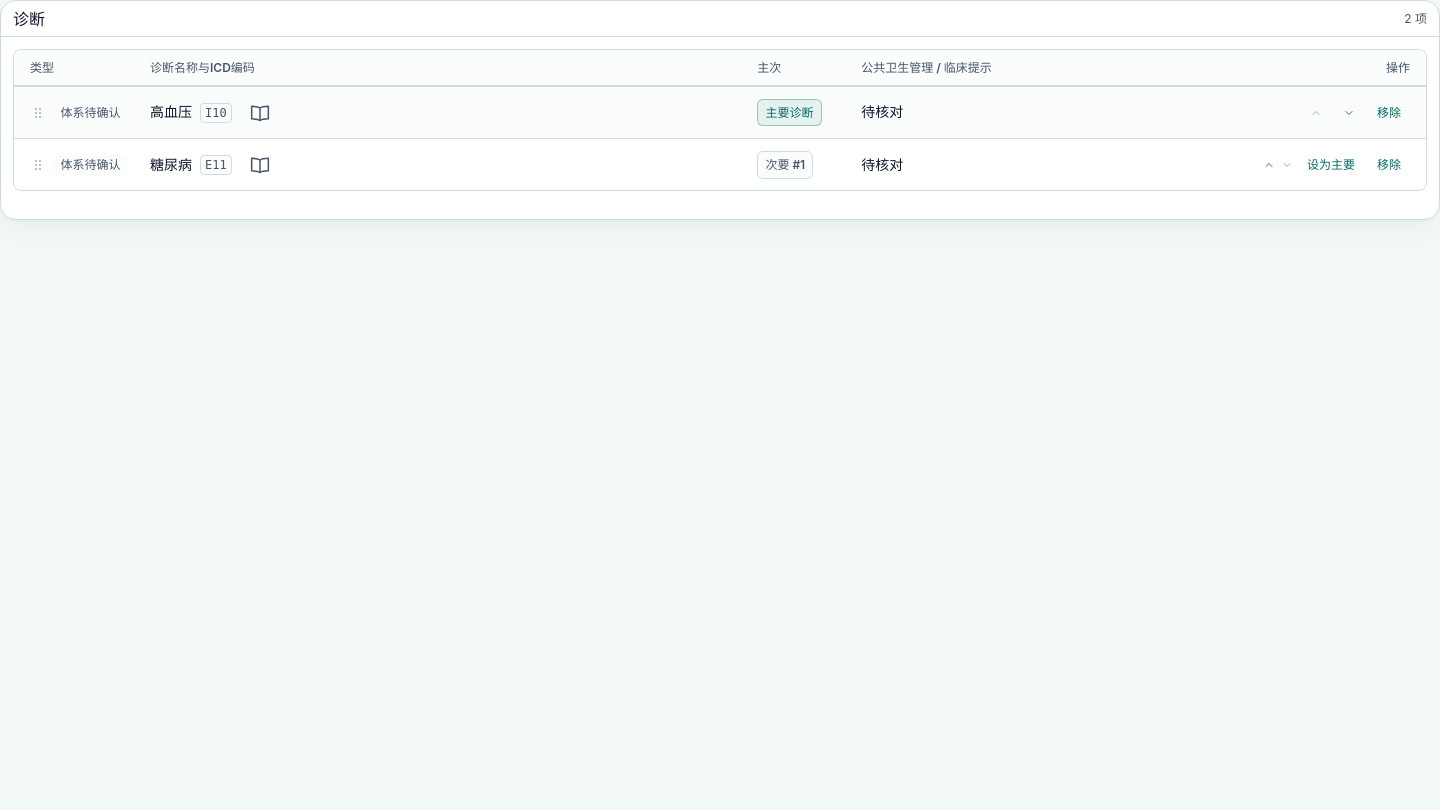
Test: diagnosis panel › promotes, reorders and removes the primary diagnosis while preserving one primary
Click the button "设为主要".
click(1331, 165)  # box [1298,149,1364,181]
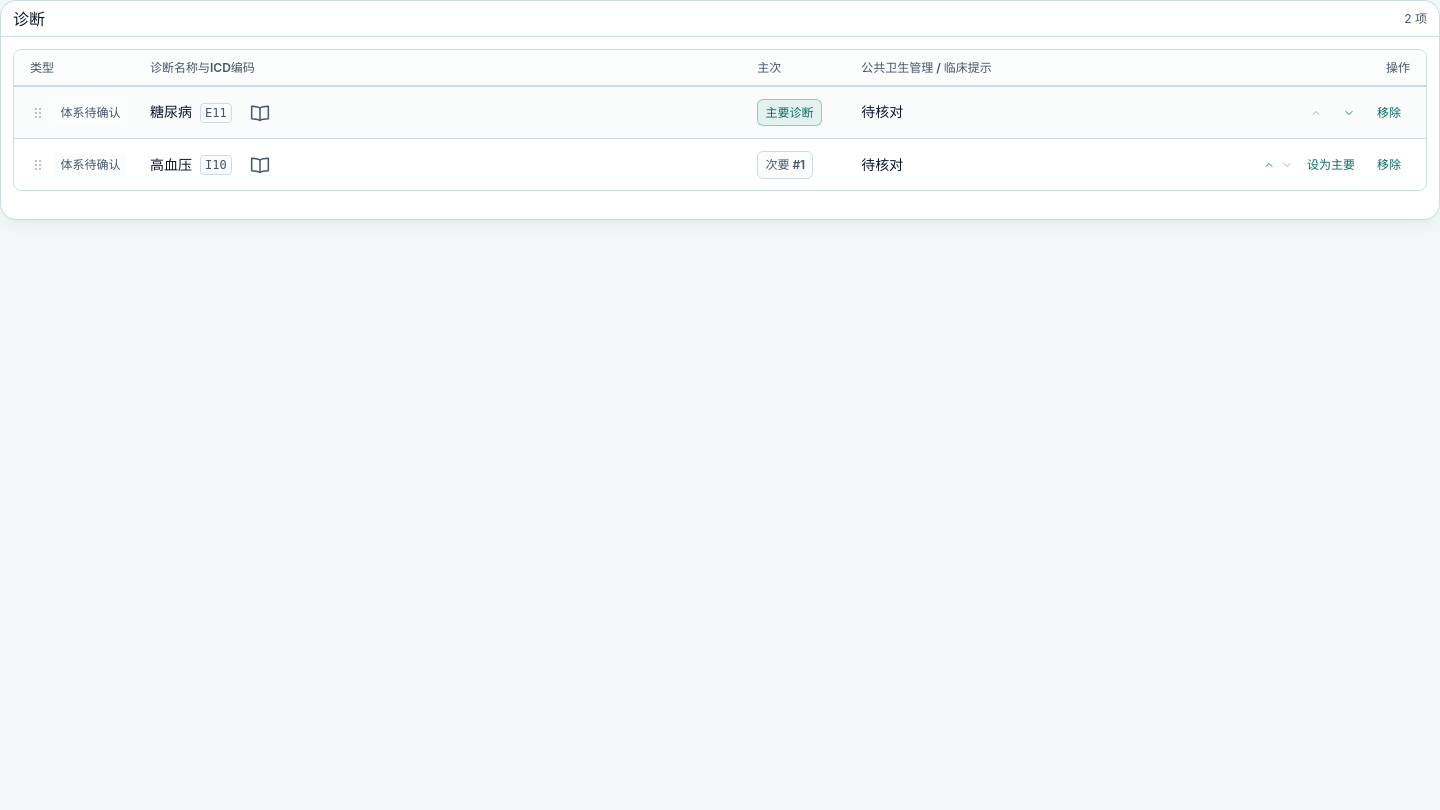
Expected: the row "体系待确认 糖尿病 E11 主要诊断 待核对 移除" is shown, [14,86,1426,138]
Click the button named "上移诊断 高血压".
click(1269, 165)  # box [1262,149,1276,181]
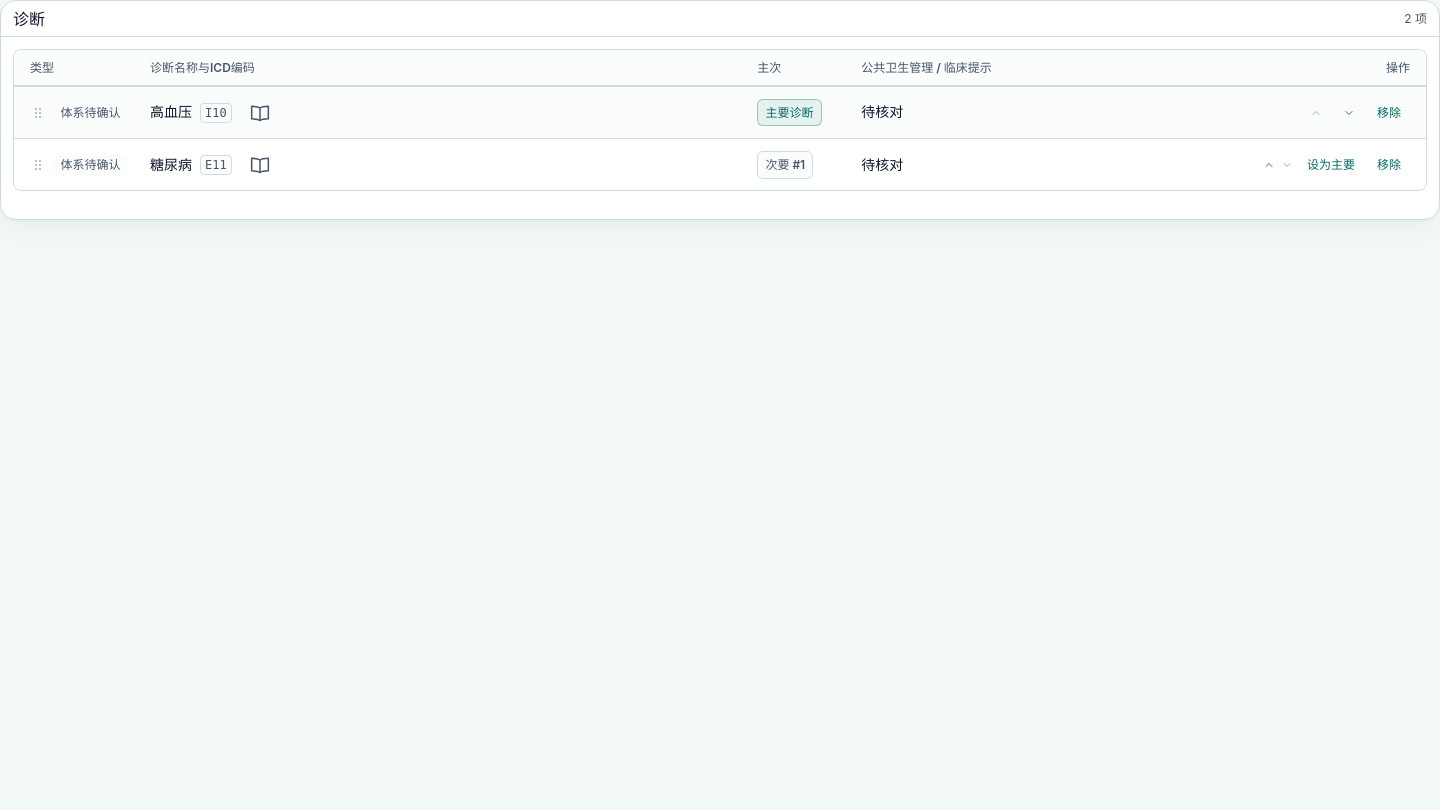
Expected: the row "体系待确认 高血压 I10 主要诊断 待核对 移除" is shown, [14,86,1426,138]
Click the button "移除" in the row of "高血压".
click(1389, 113)  # box [1368,97,1410,129]
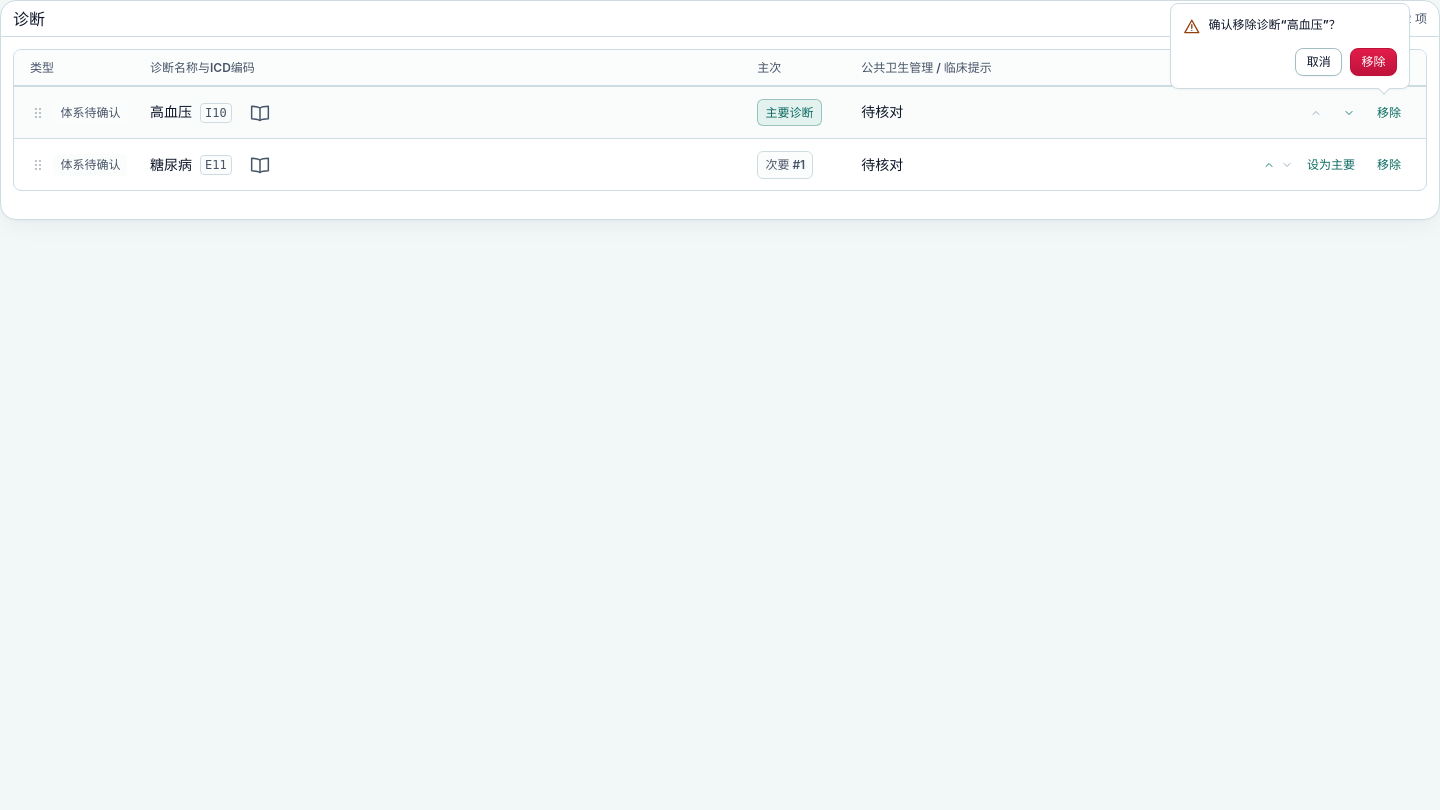
Click the button "移除" below "确认移除诊断“高血压”？".
click(1374, 62)  # box [1350,48,1397,76]
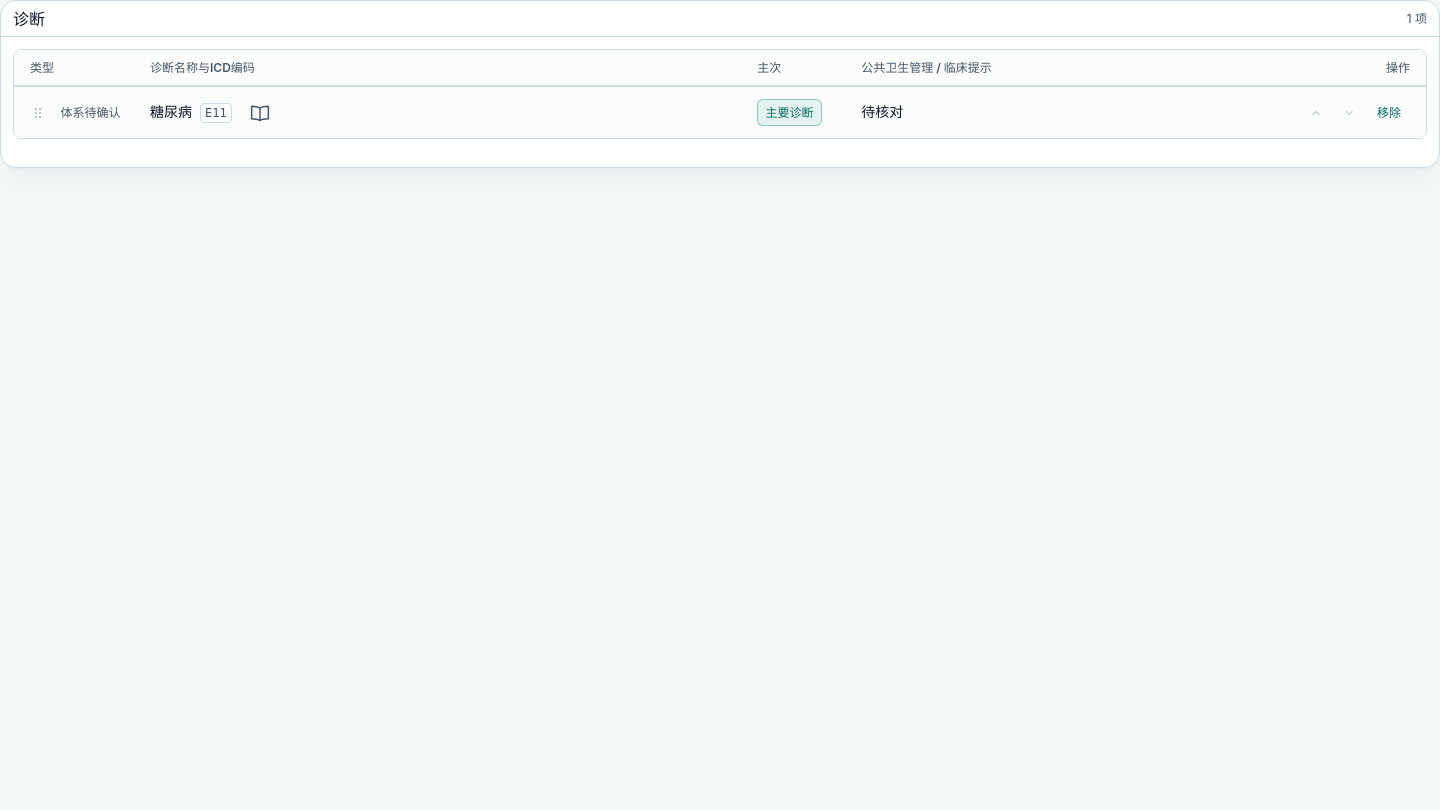
Expected: the row "体系待确认 糖尿病 E11 主要诊断 待核对 移除" is shown, [14,86,1426,138]
Result: the text "主要诊断" is shown once at [757,99,822,126]
